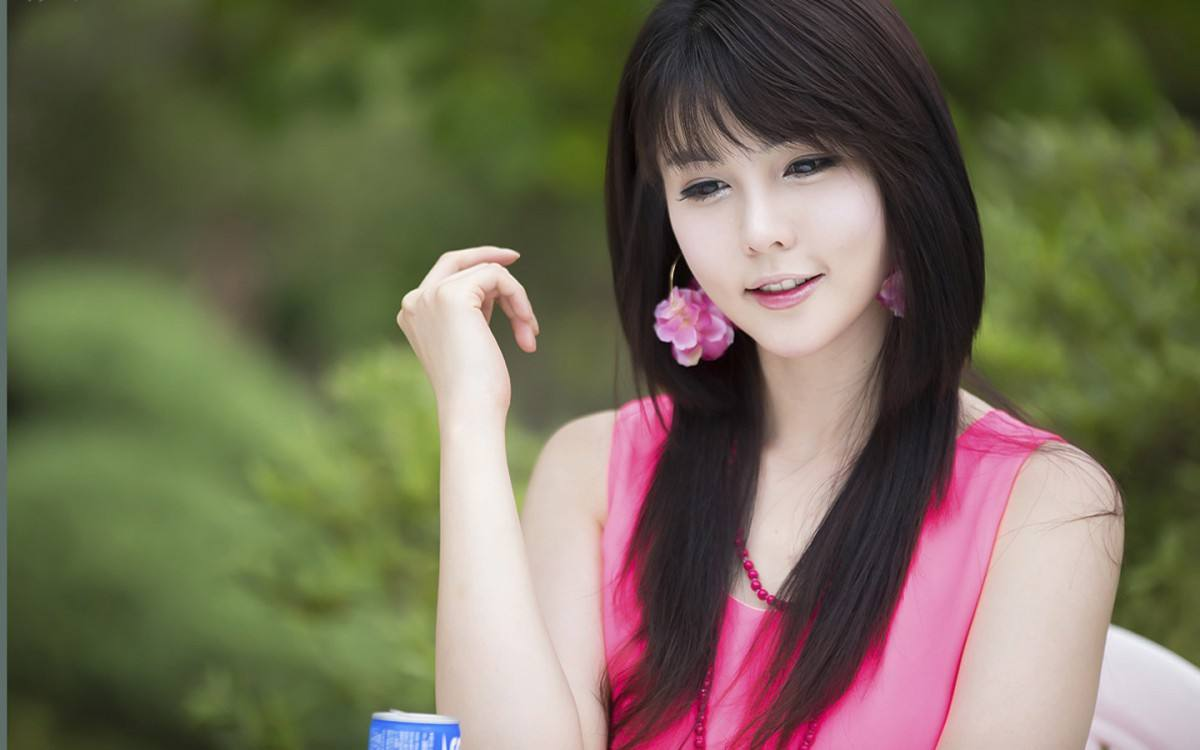person: (453, 7, 1141, 743)
